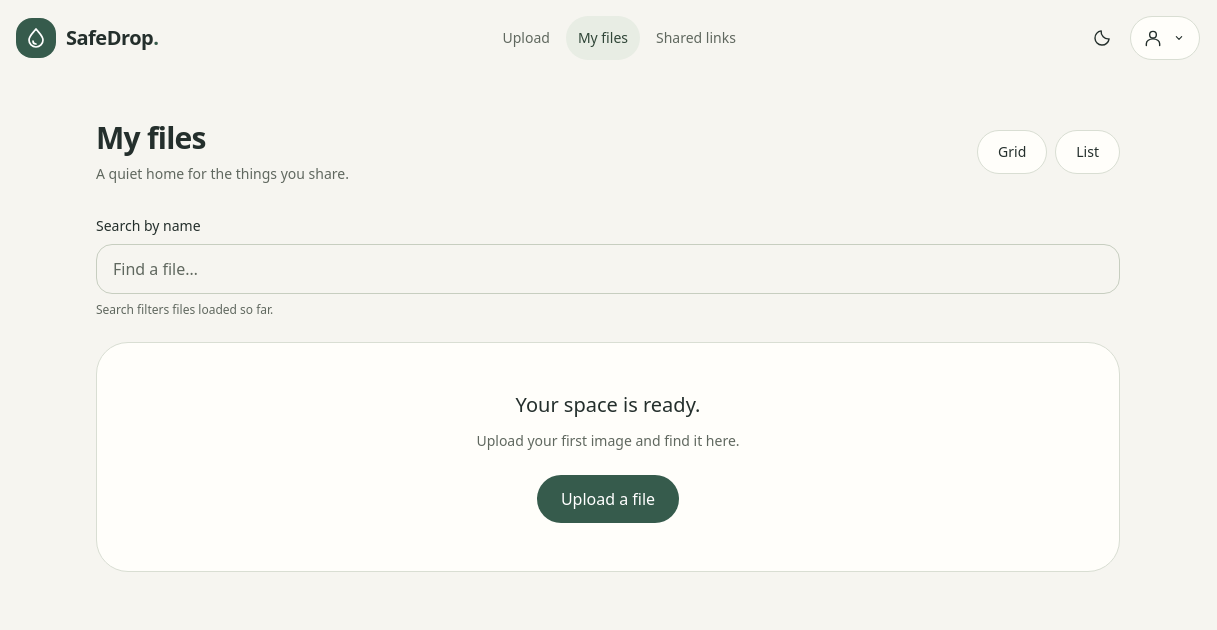
Scenario: reacts to sign-out and removes persisted credentials
Click the button named "User menu".
click(1165, 38)  # box left=1130, top=16, right=1200, bottom=60
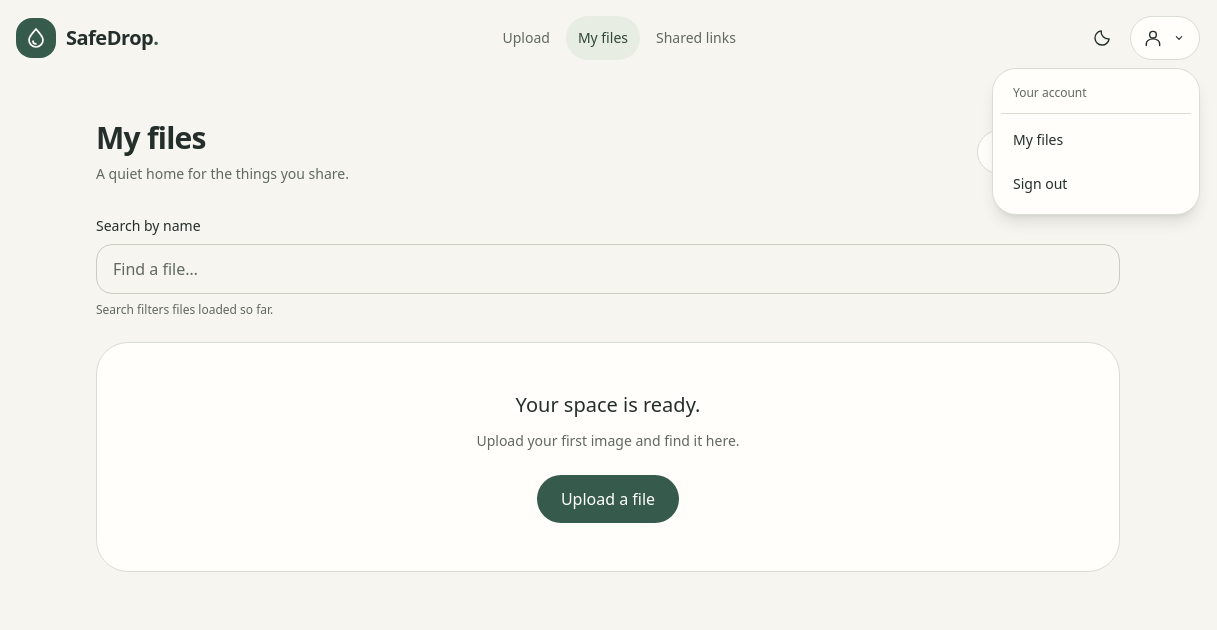
Click the menu item "Sign out".
click(1040, 184)  # box left=1013, top=174, right=1067, bottom=193
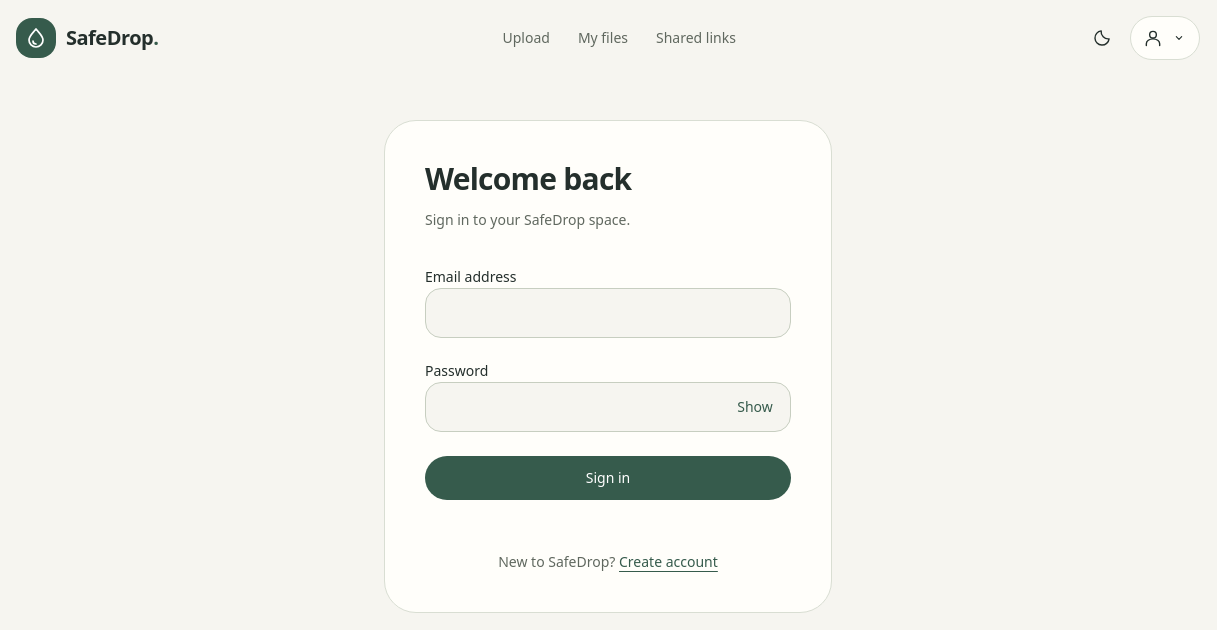
Expected: the heading "Welcome back" is shown, left=425, top=158, right=631, bottom=199
